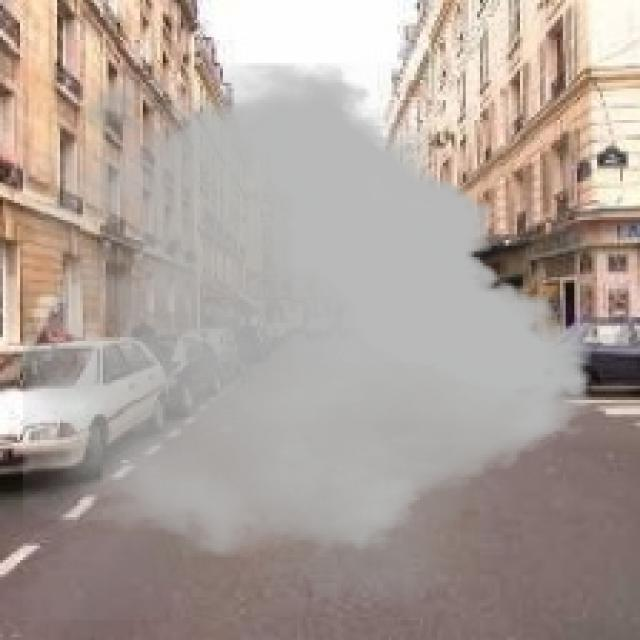Smoke: (22, 54, 592, 620)
